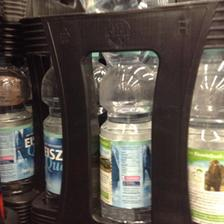Wasser: (99, 53, 149, 224)
